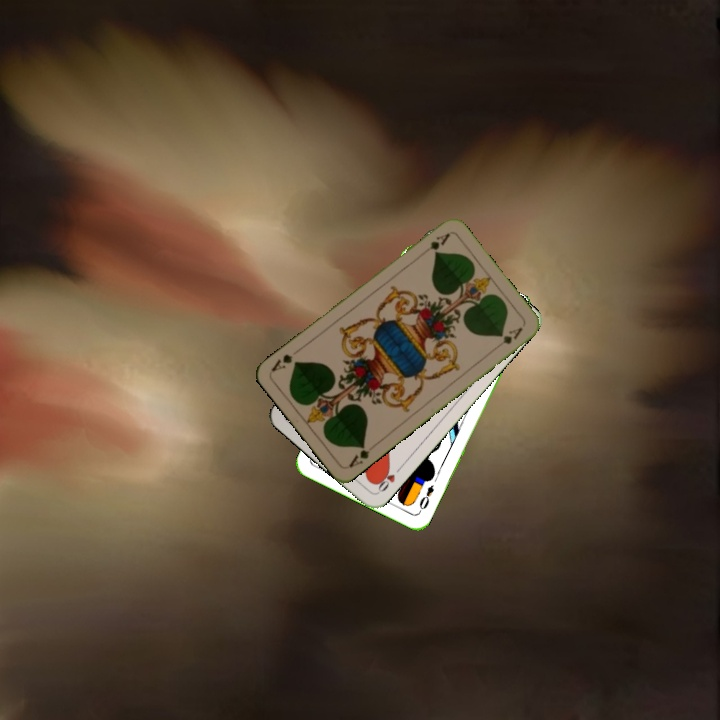EO: (415, 481, 436, 515)
GA: (417, 228, 453, 258), (344, 440, 372, 471)
HO: (371, 462, 404, 496)
